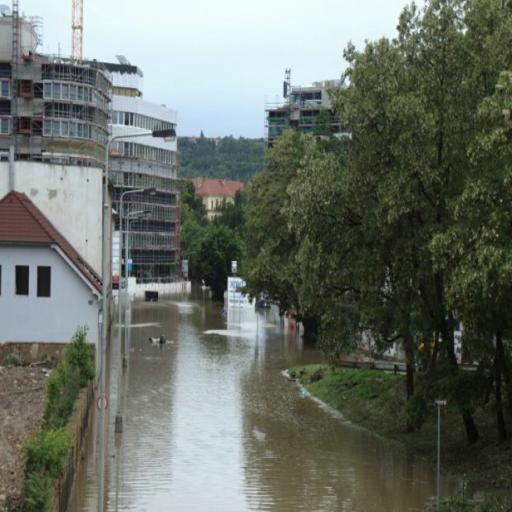flood: (107, 299, 433, 512)
house: (0, 15, 178, 283), (0, 186, 106, 340), (262, 64, 334, 136), (190, 180, 242, 216)
